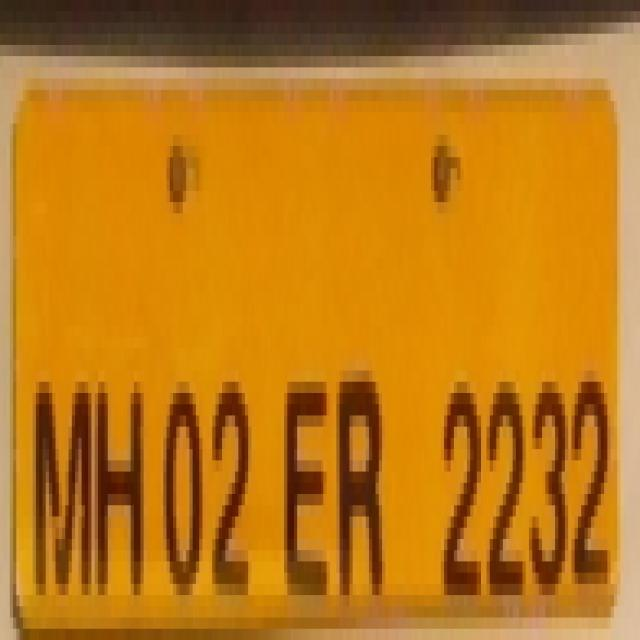0: (161, 368, 206, 605)
3: (531, 368, 571, 600)
E: (280, 354, 332, 604)
H: (98, 362, 146, 607)
M: (27, 352, 94, 610)
R: (335, 357, 393, 609)
